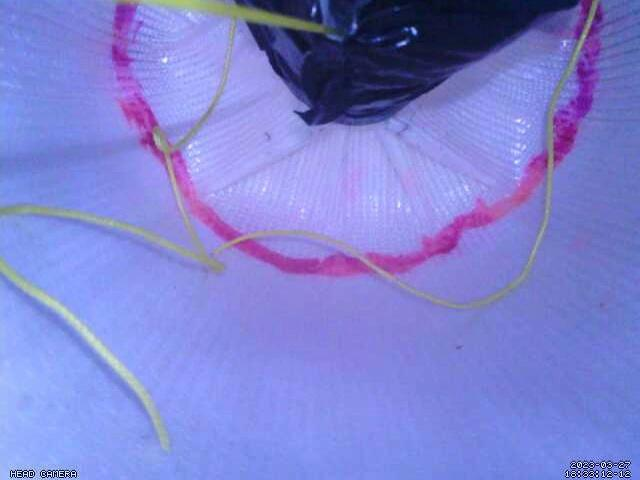head: (110, 0, 605, 278)
